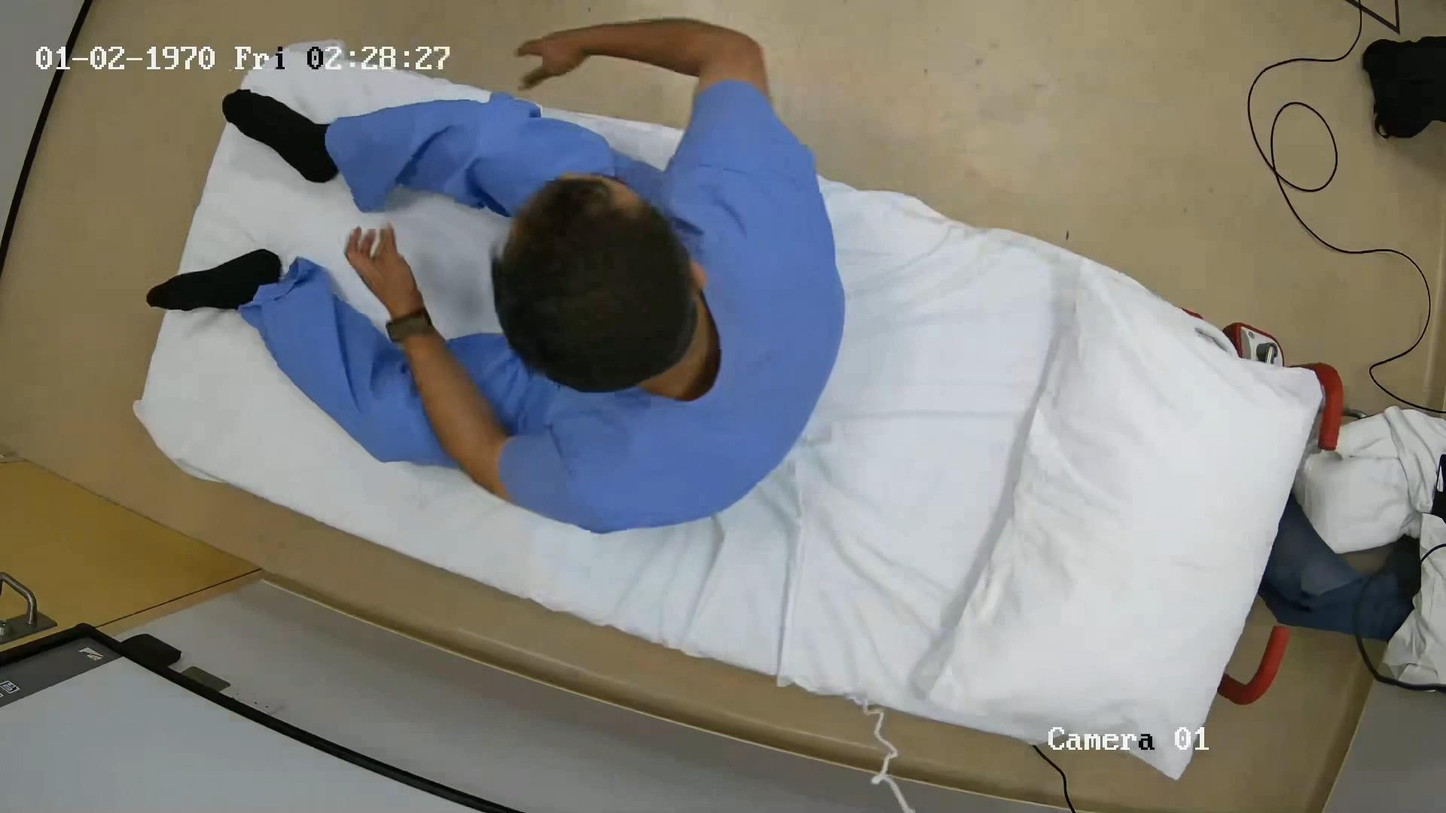bed: (137, 72, 1342, 775)
